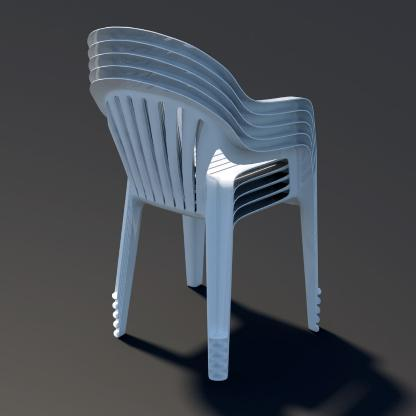chair: (81, 17, 328, 377)
